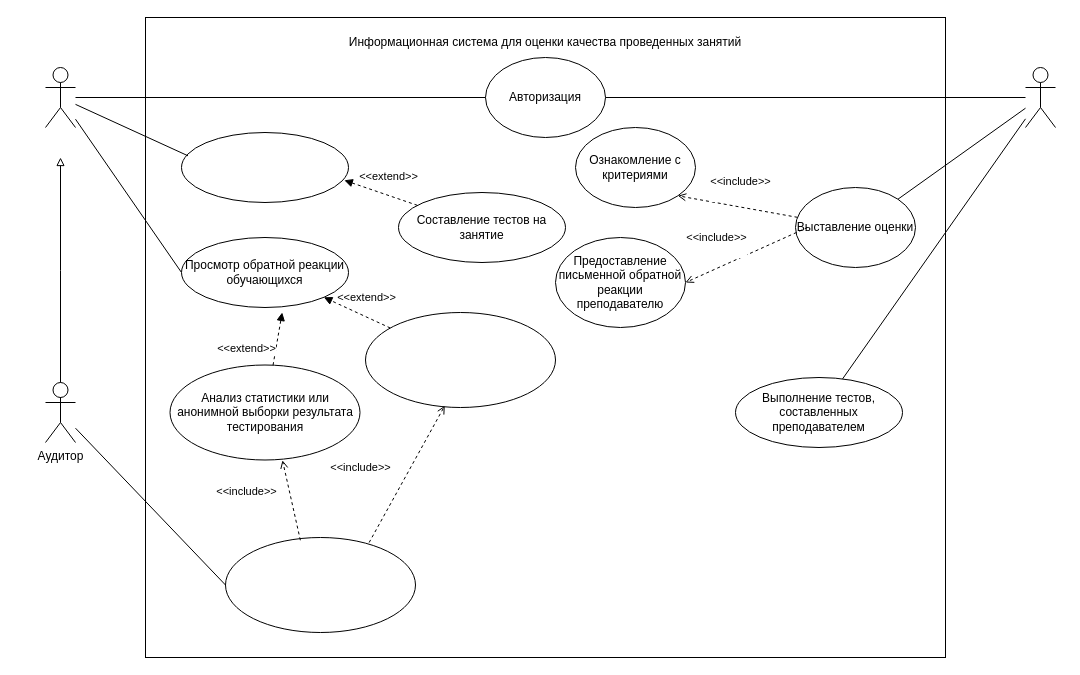
Image size: 1080x675. Some labels were removed from this diagram. Here are the shapes that lost their labels. From the top down, the box of each, then its label:
(44, 66, 76, 128): Преподаватель
(1024, 66, 1056, 128): Студент
(180, 132, 348, 202): Составление критериев оценки занятия
(364, 312, 556, 408): Генерация отчёта по итогам обратной реакции обучающихся
(224, 536, 416, 632): Анализ эффективности занятий
